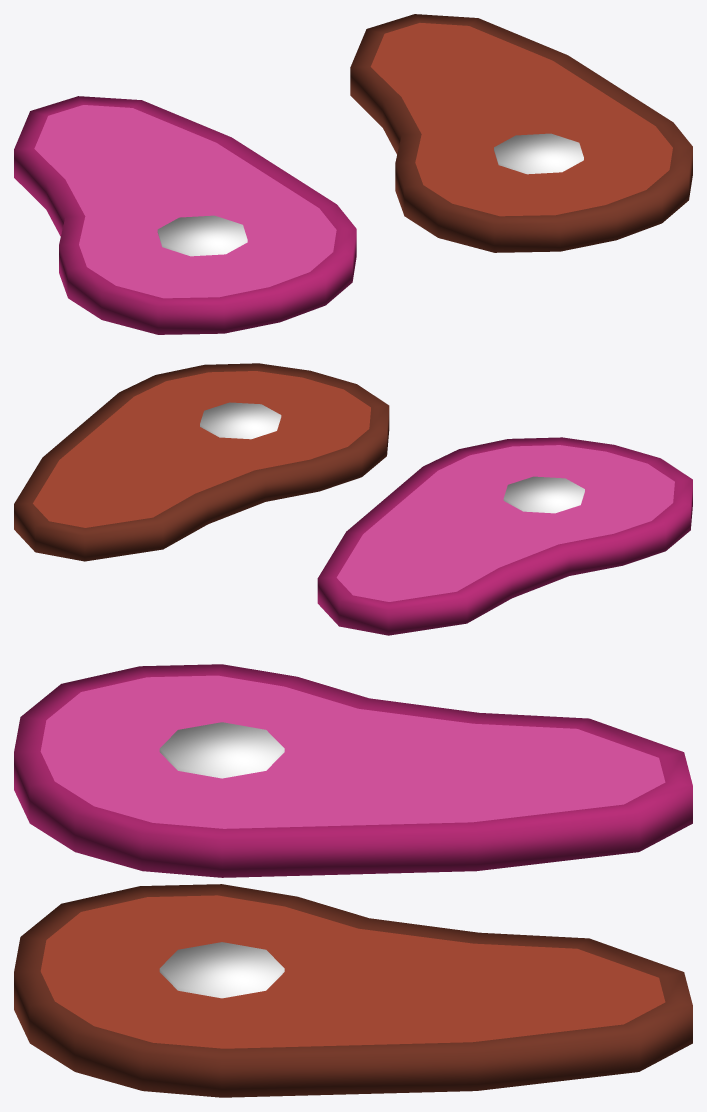
File: Beef.fbx
3 renders of one model, top to bottom at view 1: azimuth 30°, elevation 25°; view 2: azimuth 150°, elevation 25°; view 3: azimuth 270°, elevation 25°, orthographic. The views are drawn at different scales.
Visible parts, largest first — view 1: Cooked, Raw; view 2: Cooked, Raw; view 3: Raw, Cooked.
Part boxes in pixels (left/top/right/bottom): Cooked: left=350, top=14, right=692, bottom=252; Raw: left=14, top=96, right=356, bottom=334; Cooked: left=14, top=363, right=389, bottom=561; Raw: left=317, top=437, right=692, bottom=635; Raw: left=14, top=664, right=692, bottom=877; Cooked: left=14, top=884, right=692, bottom=1097.
Bounding box in the file's own units: 0.9 × 0.0477 × 0.6525.
